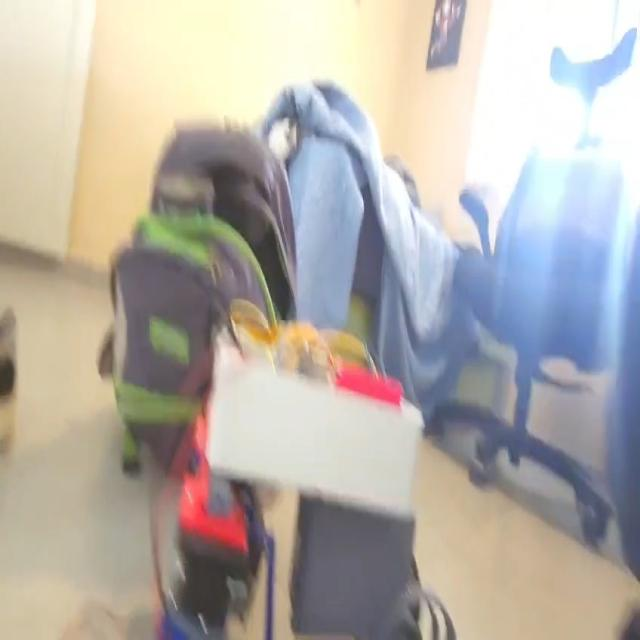Robot: (150, 293, 467, 639)
